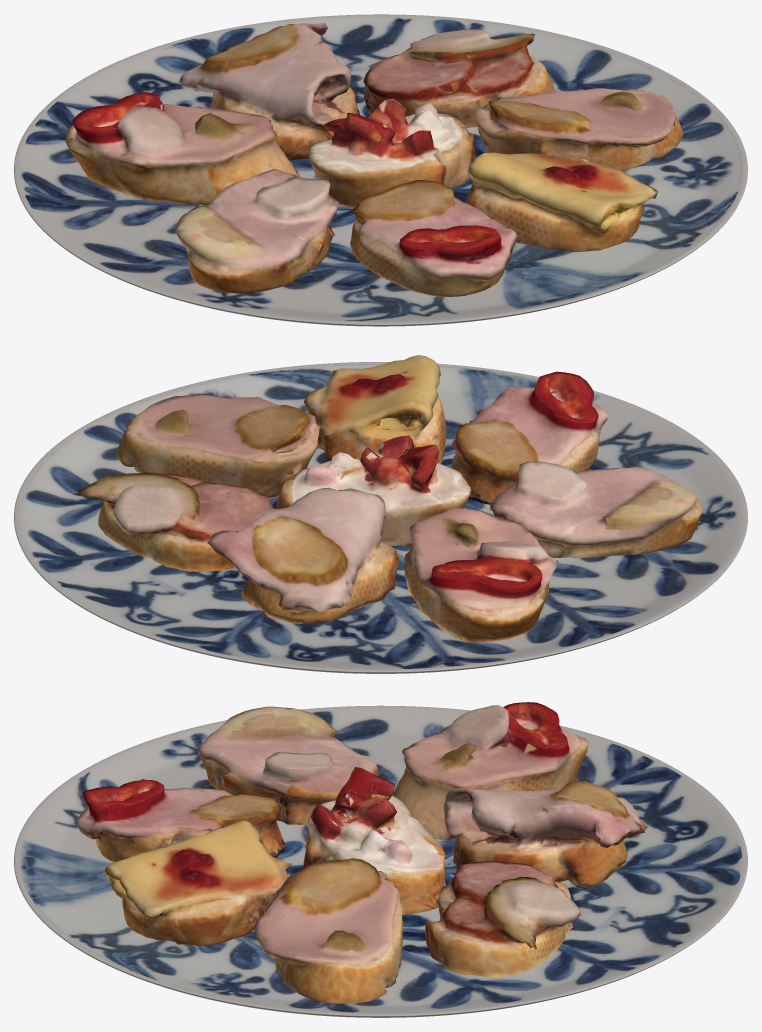
Rendered from kanapki2.fbx.
3 views of the same model, one above another, from view 1: azimuth 30°, elevation 25°; view 2: azimuth 150°, elevation 25°; view 3: azimuth 270°, elevation 25° (orthographic).
Visible parts, largest first — view 1: LOW, plate; view 2: LOW, plate; view 3: LOW, plate.
Part boxes in pixels (x1=…): LOW: x1=65, y1=23, x2=683, y2=296; plate: x1=14, y1=14, x2=747, y2=326; LOW: x1=73, y1=355, x2=702, y2=642; plate: x1=14, y1=362, x2=747, y2=673; LOW: x1=77, y1=702, x2=647, y2=1004; plate: x1=14, y1=705, x2=747, y2=1017.
Bounding box in the file's own units: 39.6 × 5.39 × 39.6.
